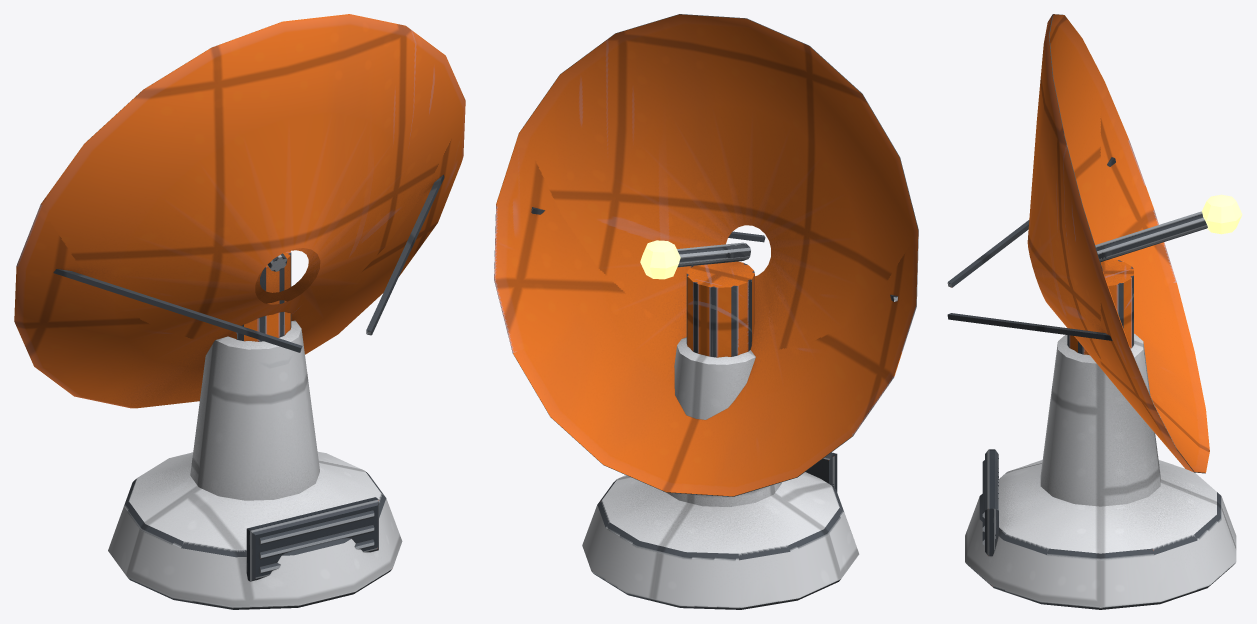
The model's file is radar_t2.fbx.
The picture shows the model from 3 angles, left to right: view 1: azimuth 30°, elevation 25°; view 2: azimuth 150°, elevation 25°; view 3: azimuth 270°, elevation 25°; orthographic projection. The views are drawn at different scales.
Visible parts, largest first — view 1: radar_t2_plato, radar_t2.001; view 2: radar_t2_plato, radar_t2.001, radar_t2_plato_neon; view 3: radar_t2_plato, radar_t2.001, radar_t2_plato_neon.
Part boxes in pixels (x1,y1,x2,y2): radar_t2_plato: (14,14,465,408); radar_t2.001: (108,320,402,609); radar_t2_plato: (494,14,918,496); radar_t2.001: (582,337,859,609); radar_t2_plato_neon: (640,240,680,279); radar_t2_plato: (947,14,1209,473); radar_t2.001: (965,333,1236,609); radar_t2_plato_neon: (1201,194,1242,234).
Size of the model in its own units: 2.77 by 3.44 by 1.68.
